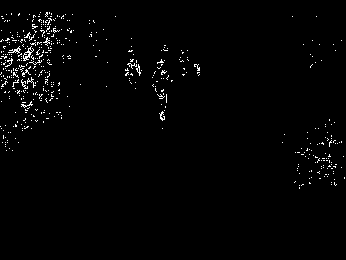person: (152, 59, 173, 122), (125, 46, 142, 90), (179, 47, 190, 77)
